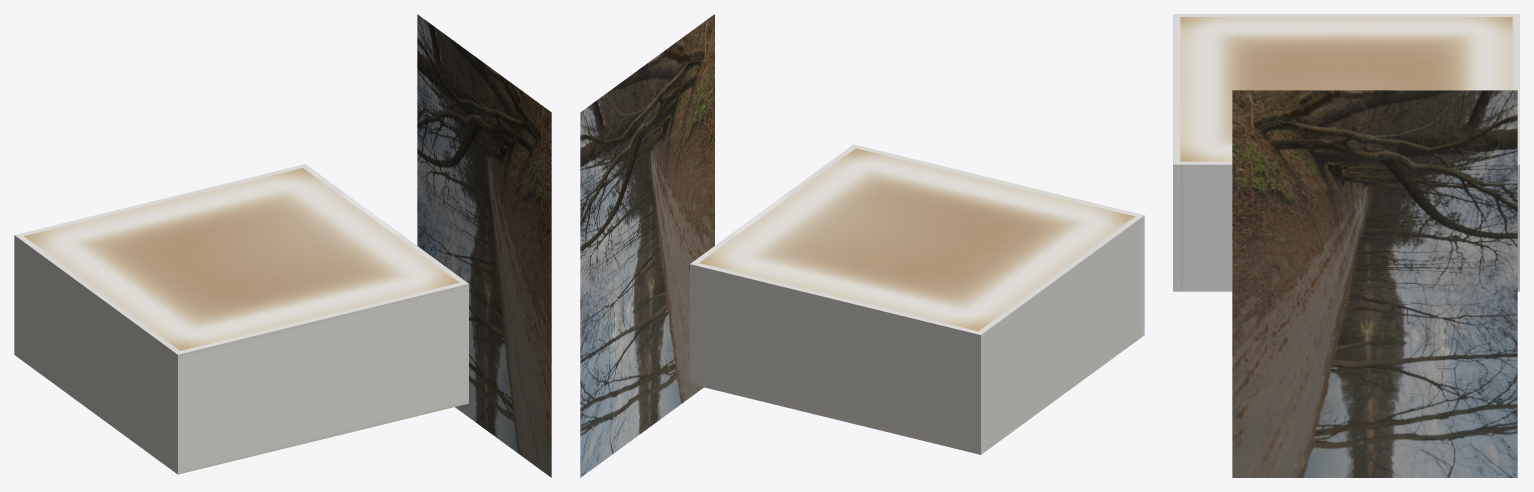
File: living-room.glb
3 views of the same model, side by side, from view 1: azimuth 30°, elevation 25°; view 2: azimuth 150°, elevation 25°; view 3: azimuth 270°, elevation 25° (orthographic). The views are drawn at different scales.
Visible parts, largest first — view 1: Ceiling, DaylightBackdrop, WallFront, WallLeft, WallBack; view 2: DaylightBackdrop, Ceiling, WallBack, WallLeft, WallFront; view 3: DaylightBackdrop, Ceiling, WallRightFront, WallFront, WallBack, WallLeft.
Part boxes in pixels (box(x1,y1,x2,y2)): Ceiling: box(24, 168, 459, 350); DaylightBackdrop: box(417, 14, 551, 477); WallFront: box(174, 281, 468, 474); WallLeft: box(17, 236, 179, 471); WallBack: box(14, 164, 308, 356); DaylightBackdrop: box(580, 14, 714, 477); Ceiling: box(699, 148, 1134, 331); WallBack: box(690, 261, 984, 454); WallLeft: box(979, 216, 1141, 452); WallFront: box(850, 144, 1144, 337); DaylightBackdrop: box(1232, 90, 1517, 477); Ceiling: box(1180, 17, 1512, 161); WallRightFront: box(1180, 161, 1232, 291); WallFront: box(1173, 14, 1180, 291); WallBack: box(1512, 14, 1519, 291); WallLeft: box(1180, 14, 1512, 16).
Bounding box in the file's own units: 10.35 × 9 × 7.3.
41 materials, 39 textured.
